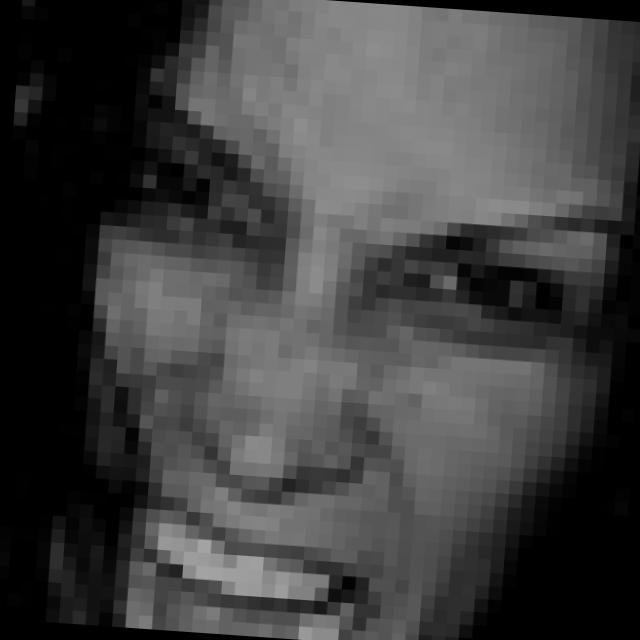angry: (84, 93, 609, 640)
